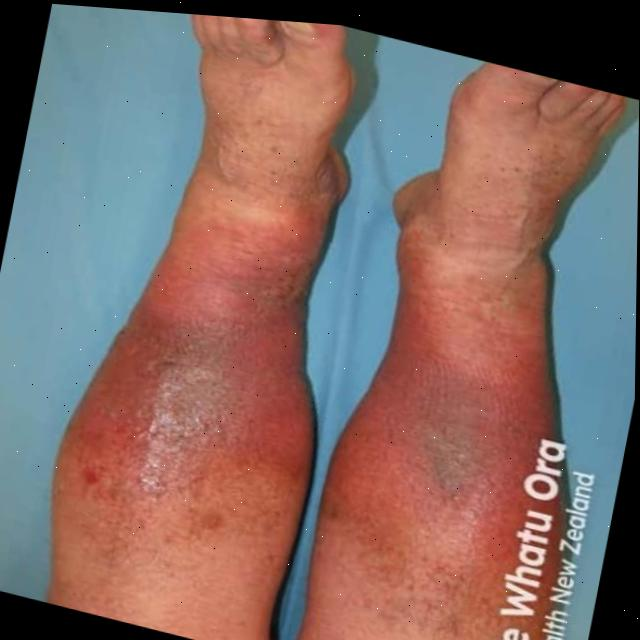Eczema: (97, 215, 253, 552), (370, 269, 527, 595)
